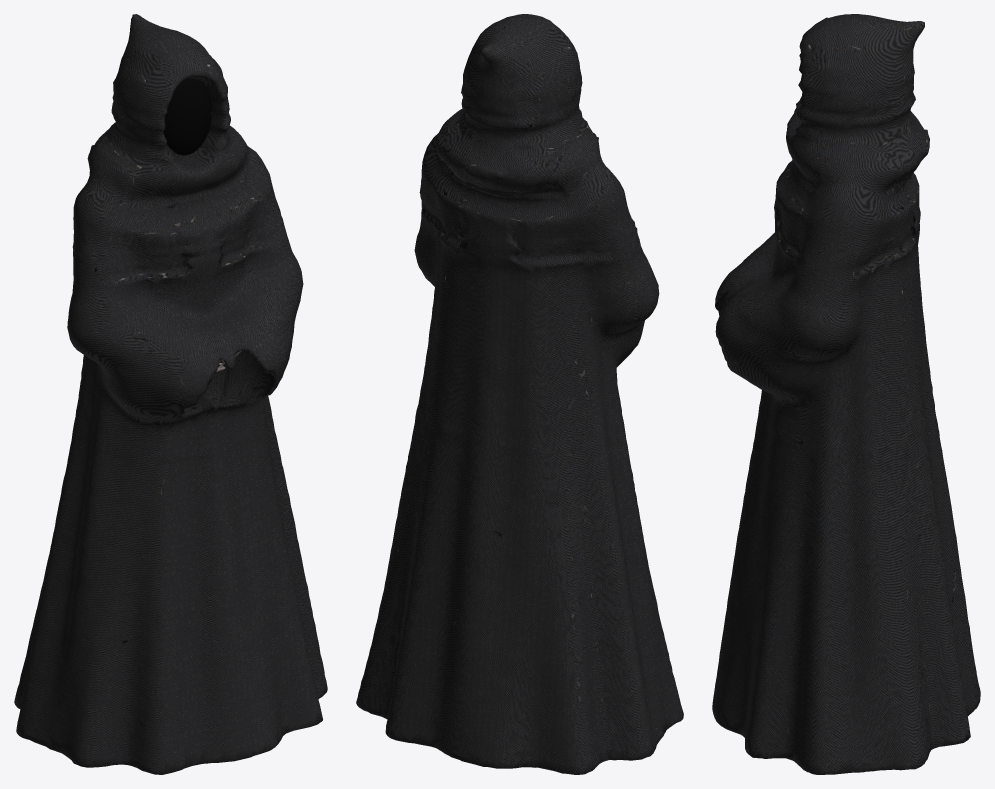
Rendered from cultist.glb.
3 renders of one model, left to right at view 1: azimuth 30°, elevation 25°; view 2: azimuth 150°, elevation 25°; view 3: azimuth 270°, elevation 25°, orthographic. The views are drawn at different scales.
Parts seen in each view (by area): view 1: Robe, Hood_Void; view 2: Robe; view 3: Robe.
Part boxes in pixels (box(x1,y1,x2,y2)): Robe: box(14, 14, 327, 774); Hood_Void: box(163, 78, 211, 155); Robe: box(356, 14, 683, 774); Robe: box(712, 14, 980, 774).
Size of the model in its own units: 0.7987 by 1.84 by 0.6504.
1 material, 1 textured.
